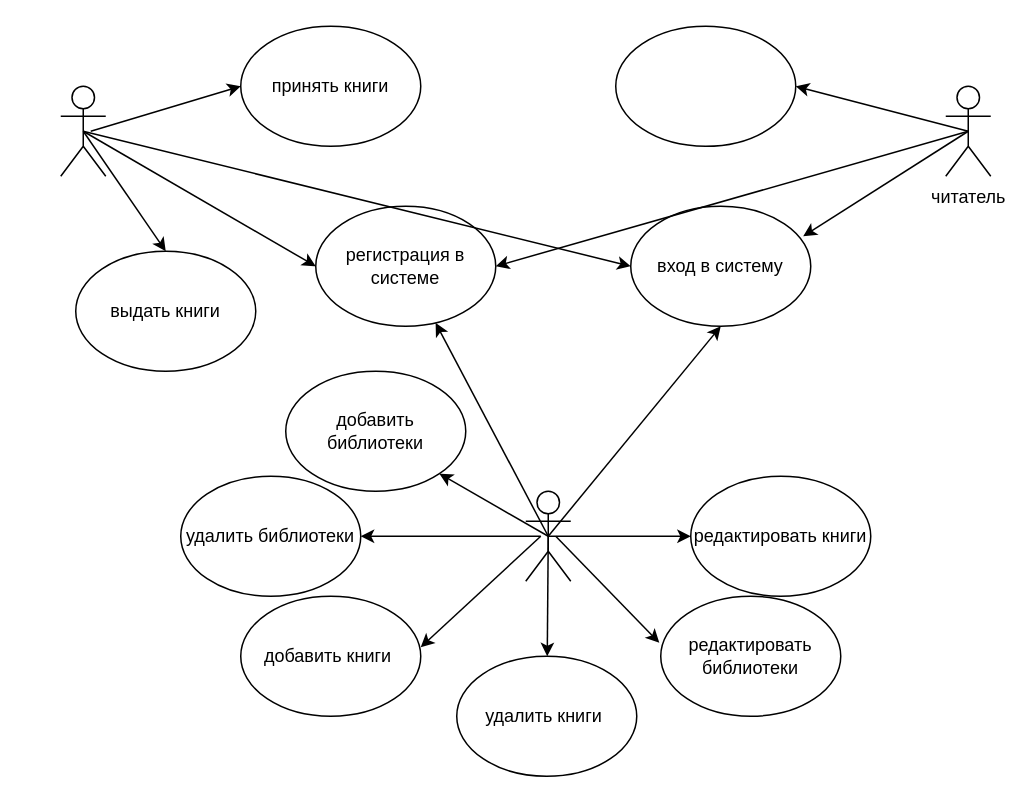
Image size: 1032x803. Some labels were removed from this diagram. Here are the shapes that lost their labels. From the top down, the box of each, then its label:
(614, 25, 796, 146): посмотреть информацию о доступных книгах по фильтрам
(59, 85, 106, 176): библиотекарь
(524, 490, 571, 581): администратор
